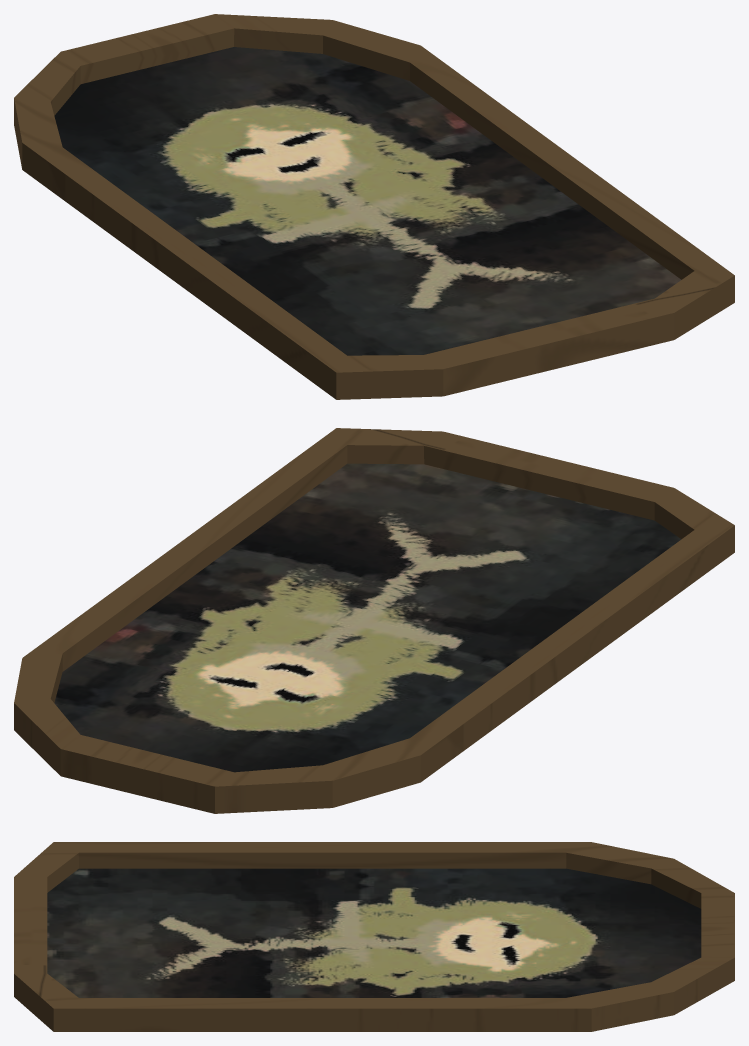
Rendered from cherry.fbx.
The picture shows the model from 3 angles, top to bottom: view 1: azimuth 30°, elevation 25°; view 2: azimuth 150°, elevation 25°; view 3: azimuth 270°, elevation 25°; orthographic projection. The views are drawn at different scales.
Parts seen in each view (by area): view 1: Cuadros.006; view 2: Cuadros.006; view 3: Cuadros.006.
Boxes of the visible parts, box(x1,y1,x2,y2) form: Cuadros.006: box(14, 14, 734, 399); Cuadros.006: box(14, 428, 734, 813); Cuadros.006: box(14, 842, 734, 1031).
Bounding box in the file's own units: 40 × 2.61 × 73.19.
2 materials, 2 textured.
